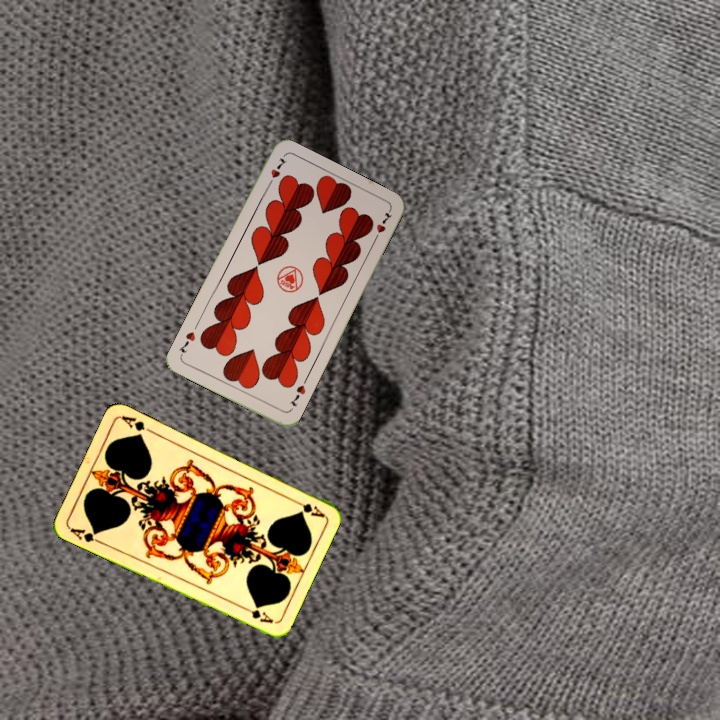GA: (288, 495, 326, 520), (66, 524, 105, 546)
H7: (263, 154, 289, 190), (286, 381, 308, 409)
